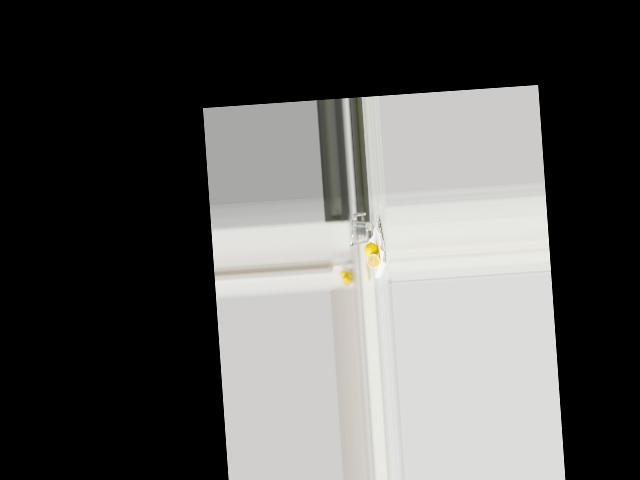lemon: (363, 240, 378, 259)
